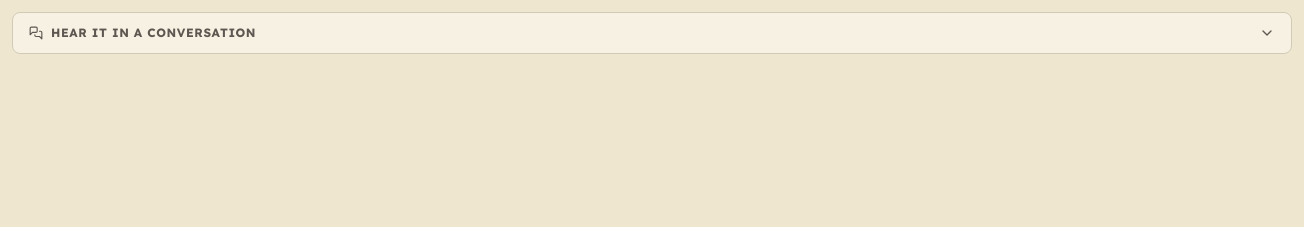
Test: LessonDialogue › labels each line with its speaker, falling back to A/B
Click the button "Hear it in a conversation".
click(154, 32)  # box top-left (13, 13), bottom-right (1291, 53)
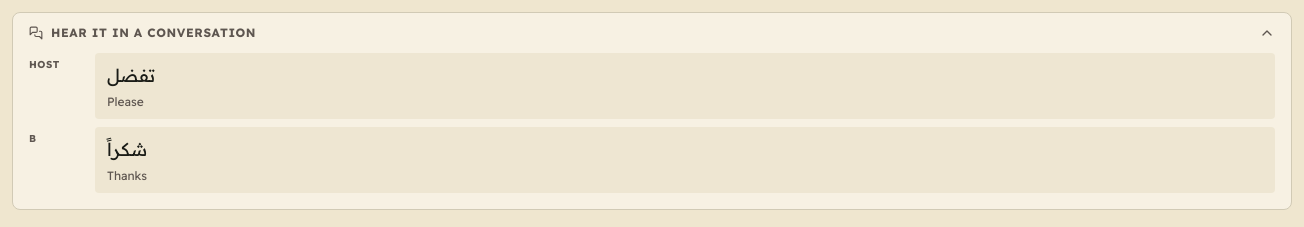
Result: the text "Host" is shown at top-left (29, 58), bottom-right (60, 71)
Result: the text "B" is shown at top-left (29, 132), bottom-right (36, 145)
Result: the text "تفضل" is shown at top-left (107, 64), bottom-right (155, 87)
